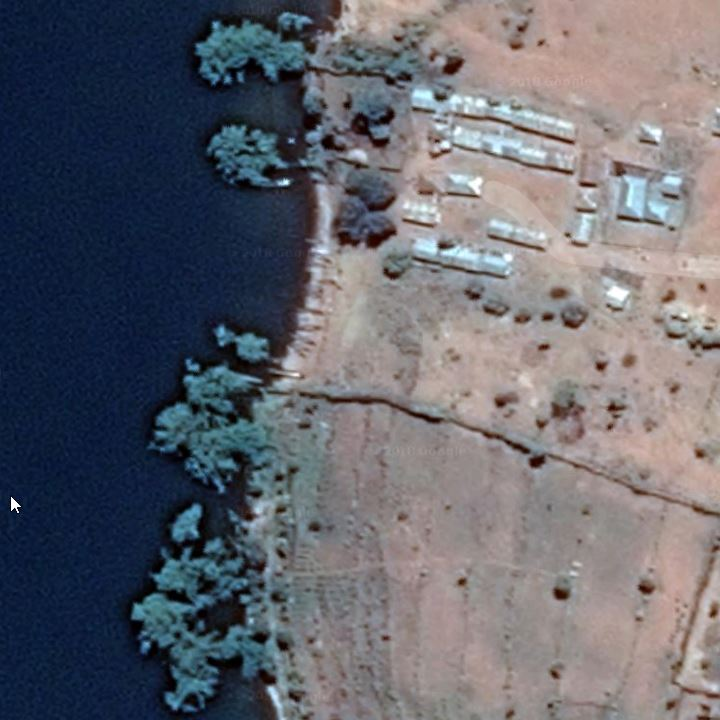boat: (264, 365, 306, 379), (286, 332, 318, 346), (294, 306, 327, 318), (307, 253, 337, 266), (286, 343, 306, 360), (303, 261, 330, 273), (292, 323, 320, 334), (291, 342, 314, 355), (302, 236, 325, 245)
